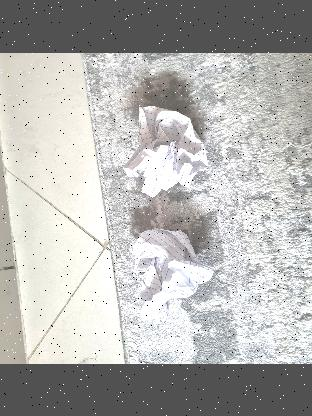Others: (128, 226, 216, 318), (124, 105, 208, 195)
